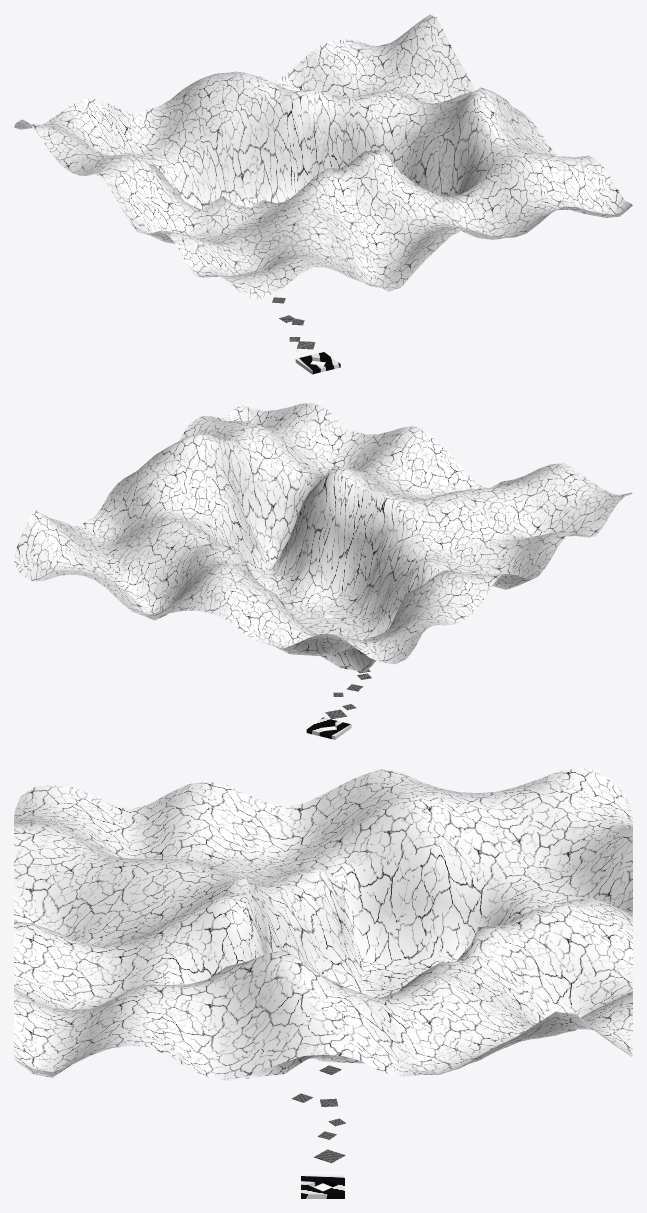
The model's file is ground.glb.
3 views of the same model, one above another, from view 1: azimuth 30°, elevation 25°; view 2: azimuth 150°, elevation 25°; view 3: azimuth 270°, elevation 25° (orthographic). The views are drawn at different scales.
Visible parts, largest first — view 1: ground.002, ground.012; view 2: ground.002, ground.012; view 3: ground.002, ground.012.
Part boxes in pixels (x1=…): ground.002: x1=14, y1=14, x2=632, y2=299; ground.012: x1=295, y1=352, x2=340, y2=374; ground.002: x1=14, y1=403, x2=632, y2=671; ground.012: x1=306, y1=717, x2=351, y2=739; ground.002: x1=14, y1=768, x2=632, y2=1080; ground.012: x1=301, y1=1175, x2=344, y2=1198.
Bounding box in the file's own units: 79.7 × 47.34 × 79.7.
Materials: 3 (3 with a texture image).
